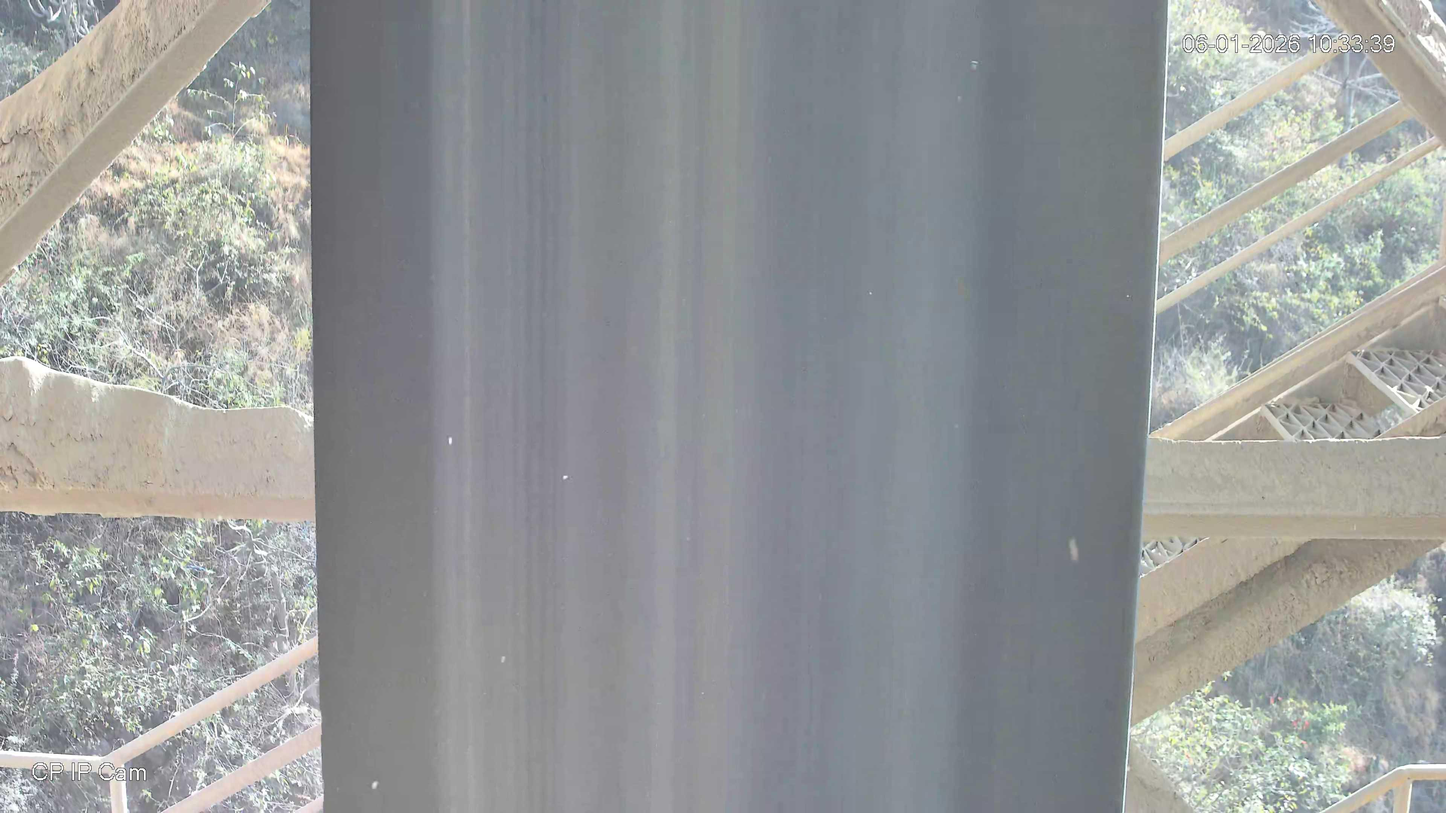belt_roi: (311, 0, 1168, 813)
